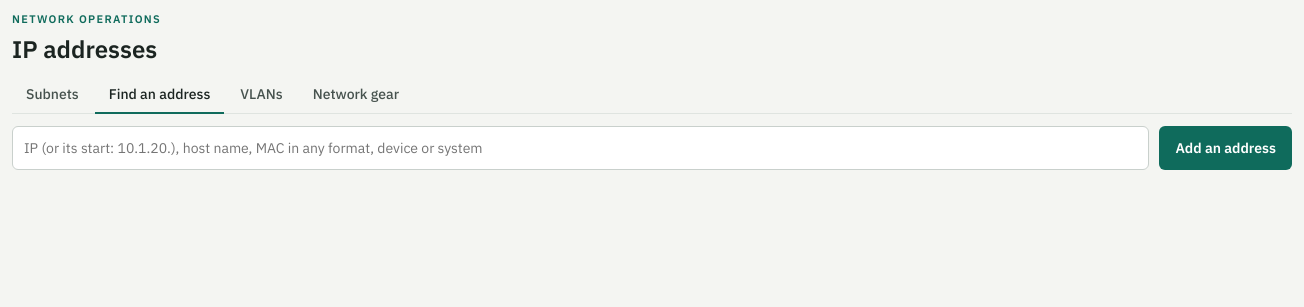
Test: find an address by MAC
Type "aabb.cc00" into the search field named "Find an address" at [581, 148], box [12,126,1149,170]
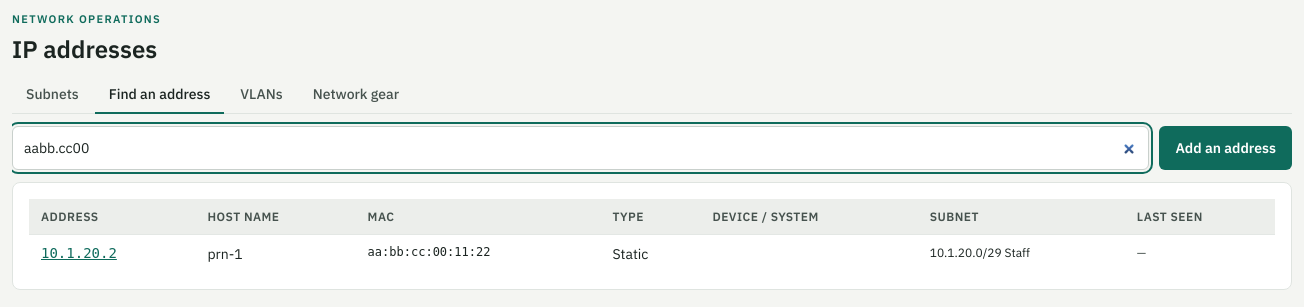
Check: the button "10.1.20.2" is shown, box [41,245,117,261]
Check: the text "10.1.20.0/29 Staff" is shown, box [918,234,1125,273]
